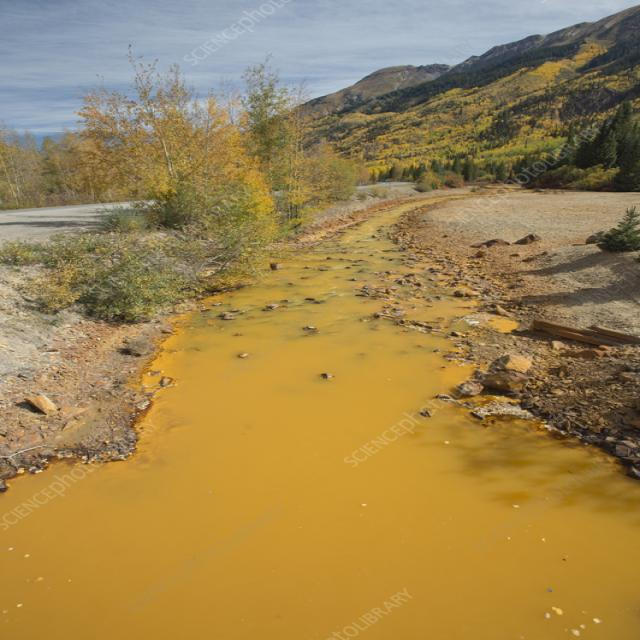yellow_boy: (0, 205, 639, 639)
